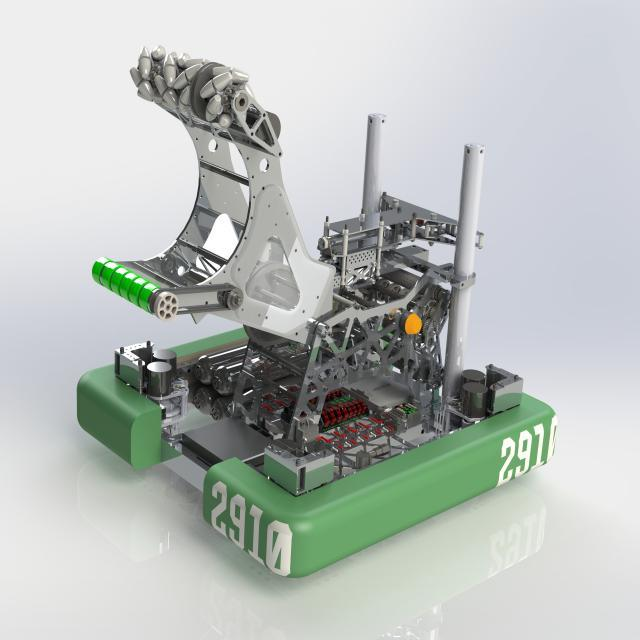robot: (71, 34, 564, 578)
